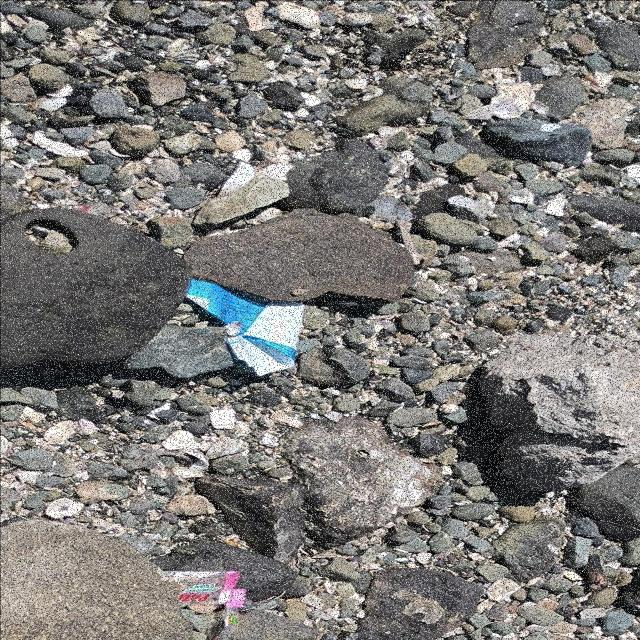plastic_waste: (187, 279, 307, 378), (165, 571, 250, 609)
